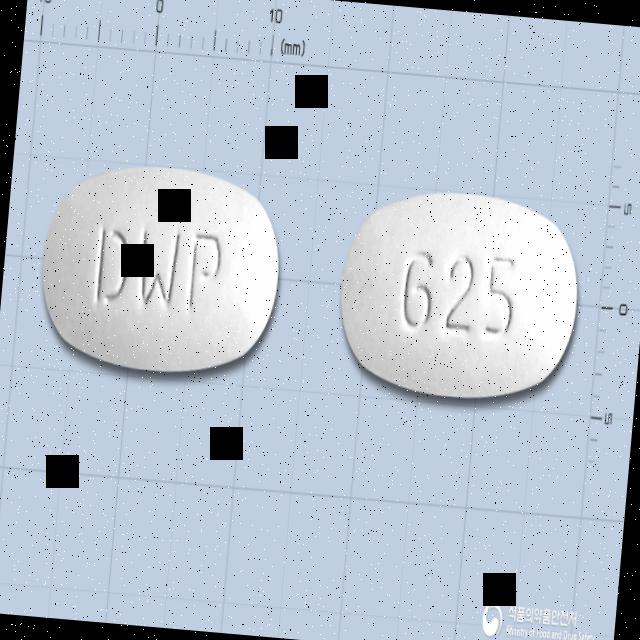Amoxicle: (30, 152, 292, 388), (333, 180, 587, 406)
